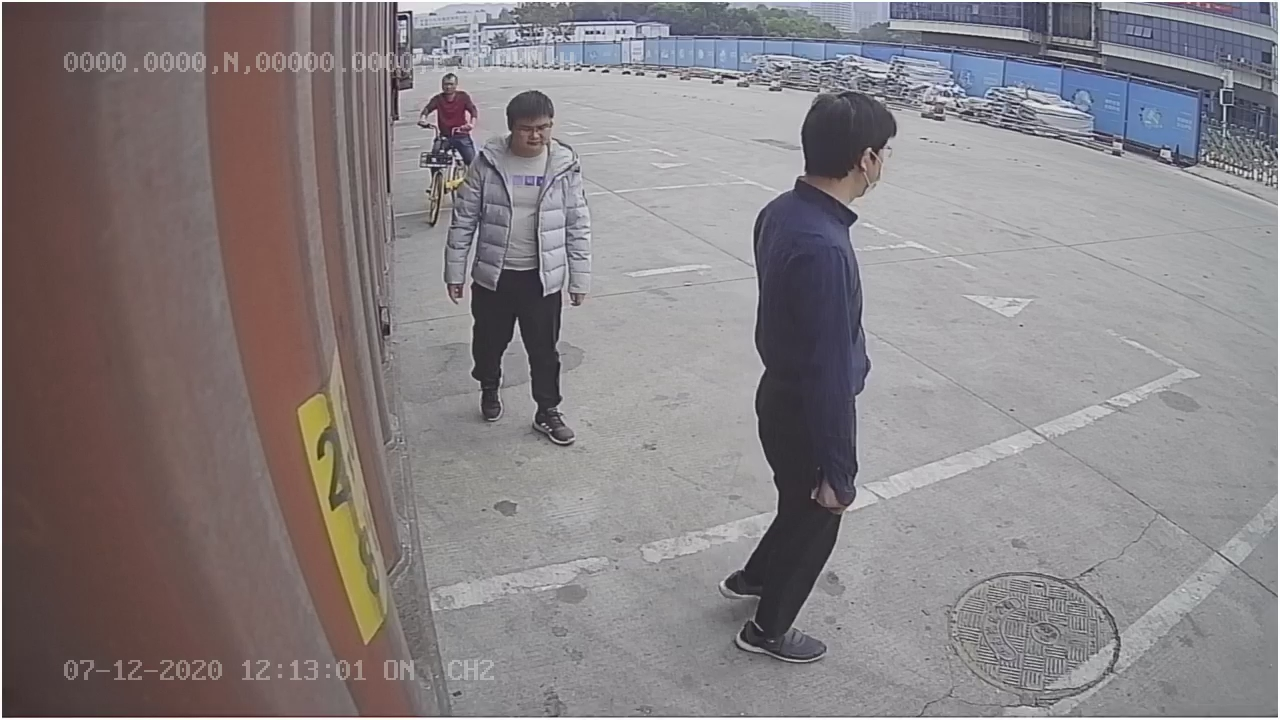person: (717, 78, 900, 666)
